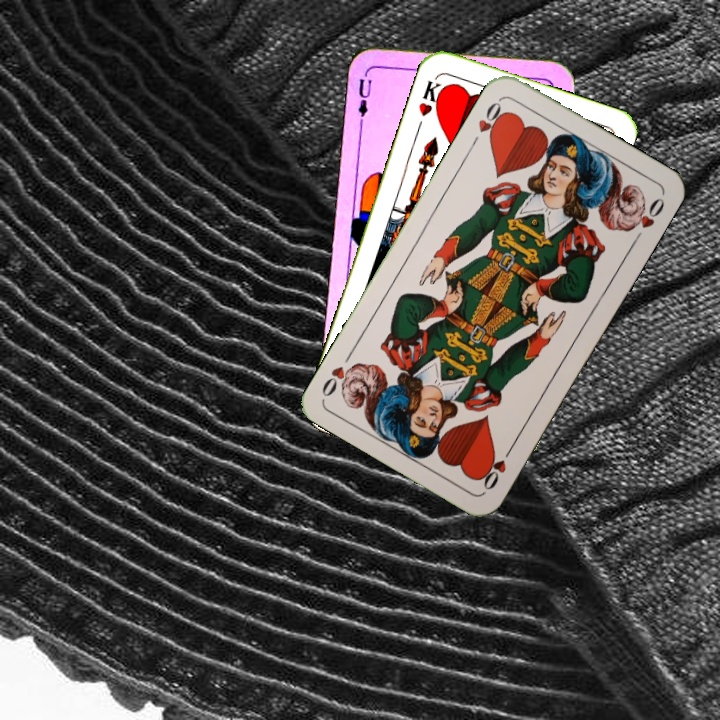EU: (354, 67, 375, 126)
HK: (414, 73, 448, 119)
HO: (467, 96, 509, 149), (477, 441, 517, 493)
